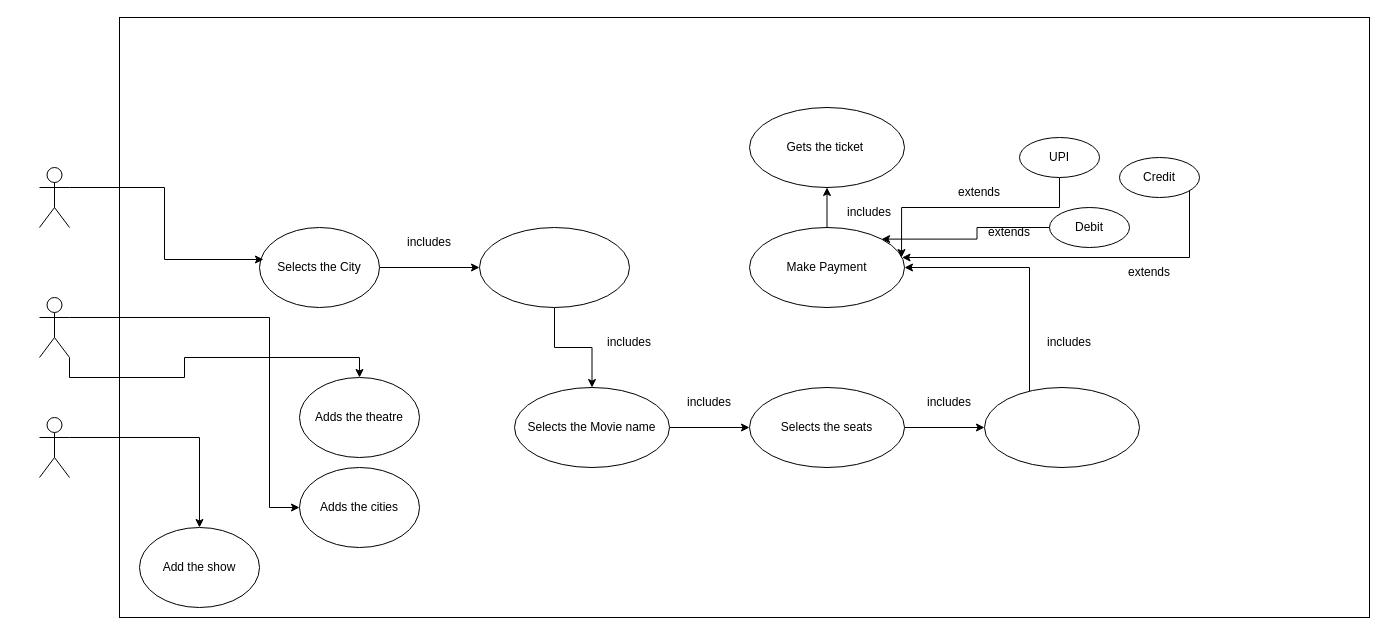
The diagram is 1387 pixels wide and 635 high, and some of its shapes have lost their labels. Each missing label, with the centre of its shape:
"Admin" goes at point (54, 327).
"customer" goes at point (54, 197).
"Enters User details" goes at point (1062, 427).
"Selects Theatre" goes at point (554, 267).
"theatre-owner" goes at point (54, 447).
